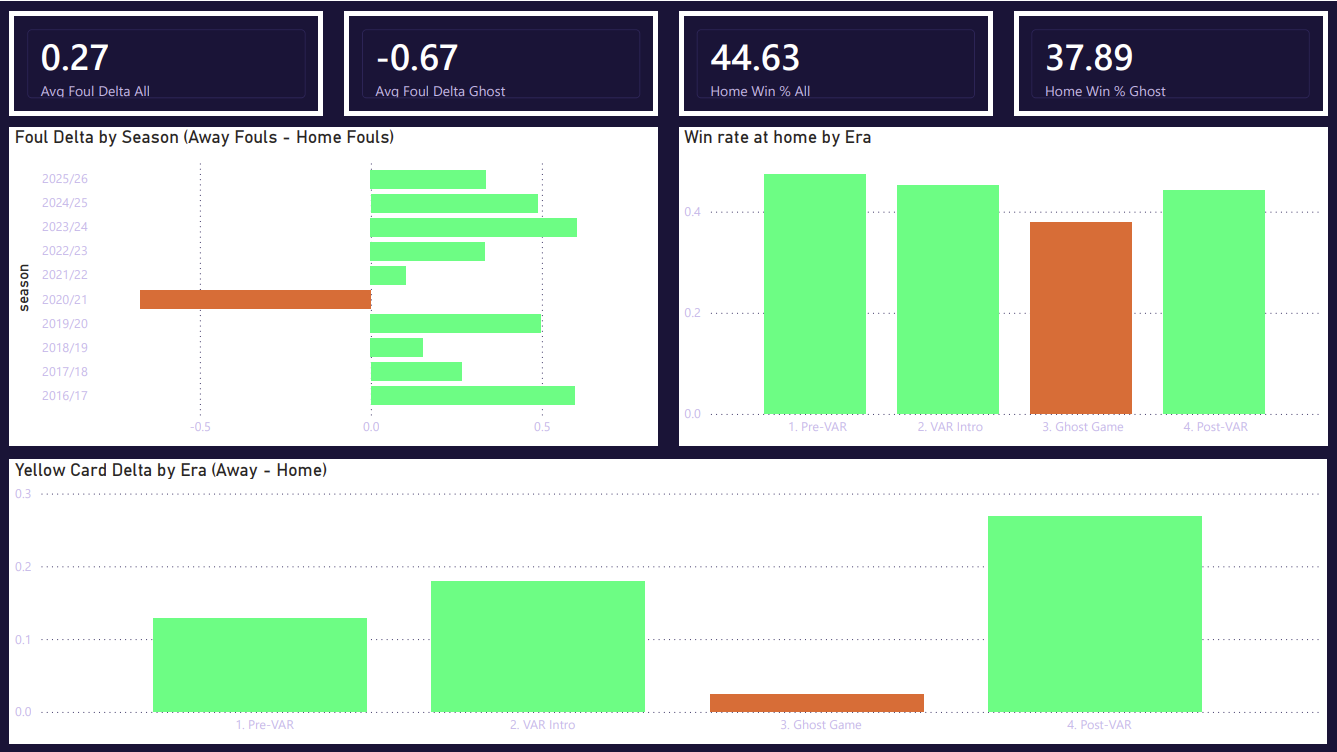

The page's visual inventory and layout, read from the dashboard file:
{"tool":"powerbi","page":{"name":"Page 1","canvas":[1280,720],"ordinal":0},"visuals":[{"type":"clusteredBarChart","title":"Foul Delta by Season (Away Fouls − Home Fouls)","fields":{"Category":["matches.season"],"Y":["Avg(matches.foul_delta)"]},"box":[10,120,620,305],"z":0},{"type":"clusteredColumnChart","title":"Win rate at home by Era","fields":{"Category":["matches.era"],"Y":["Avg(matches.home_win)"]},"box":[650,120,620,305],"z":1000},{"type":"clusteredColumnChart","title":"Yellow Card Delta by Era (Away − Home)","fields":{"Category":["matches.era"],"Y":["Avg(matches.yellow_delta)"]},"box":[10,438.3,1260,271.7],"z":2000},{"type":"cardVisual","fields":{"Data":["matches.Home Win % Ghost"]},"box":[970,10,300,100],"z":3000},{"type":"cardVisual","fields":{"Data":["matches.Avg Foul Delta All"]},"box":[10,10,300,100],"z":4000},{"type":"cardVisual","fields":{"Data":["matches.Home Win % All"]},"box":[650,10,300,100],"z":5000},{"type":"cardVisual","fields":{"Data":["matches.Avg Foul Delta Ghost"]},"box":[330,10,300,100],"z":6000}]}

Visuals, with their boxes in screenshot pixels (x1, y1, x2, y2), scaled from the page's 1280x720 canvas onto the 1337x752 screenshot:
"Foul Delta by Season (Away Fouls − Home Fouls)" clusteredBarChart: <region>10, 125, 658, 444</region>
"Win rate at home by Era" clusteredColumnChart: <region>679, 125, 1327, 444</region>
"Yellow Card Delta by Era (Away − Home)" clusteredColumnChart: <region>10, 458, 1327, 742</region>
cardVisual - matches.Home Win % Ghost: <region>1013, 10, 1327, 115</region>
cardVisual - matches.Avg Foul Delta All: <region>10, 10, 324, 115</region>
cardVisual - matches.Home Win % All: <region>679, 10, 992, 115</region>
cardVisual - matches.Avg Foul Delta Ghost: <region>345, 10, 658, 115</region>
